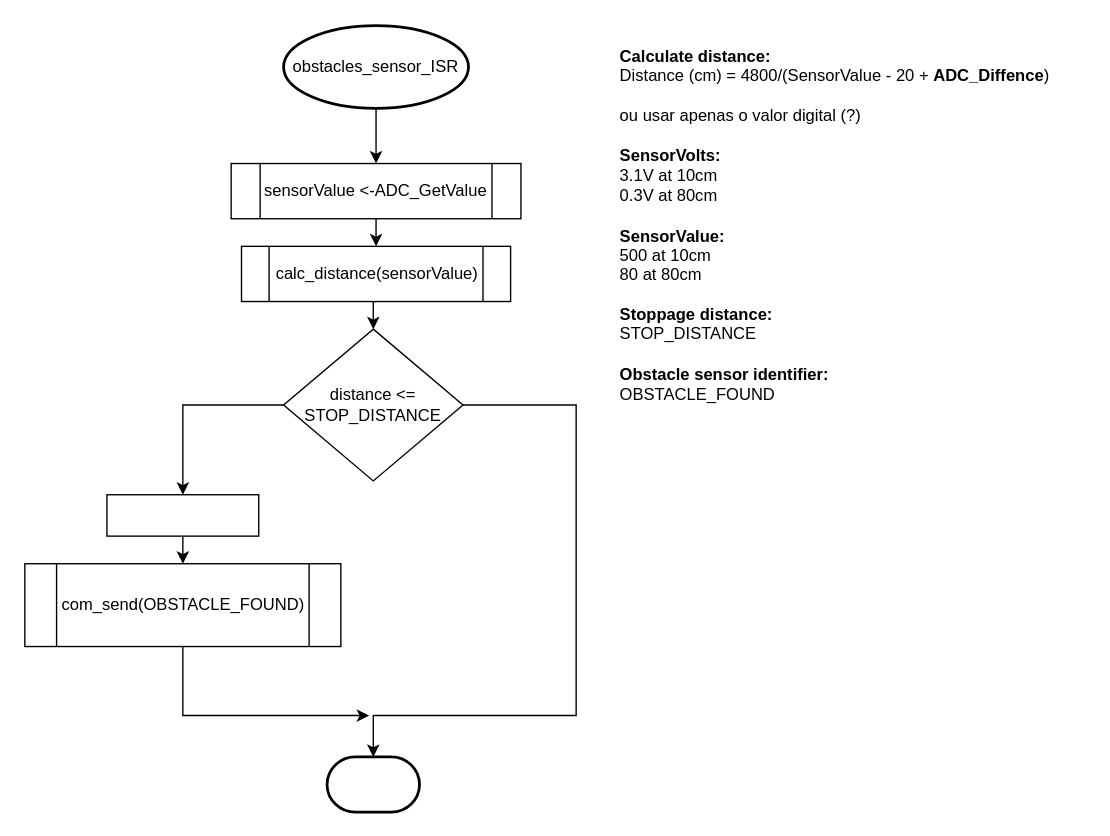
The diagram is 1110 pixels wide and 836 high, and some of its shapes have lost their labels. Each missing label, with the centre of its shape:
"End" goes at (372,784).
"nstate <- S_WAIT" goes at (182,514).
